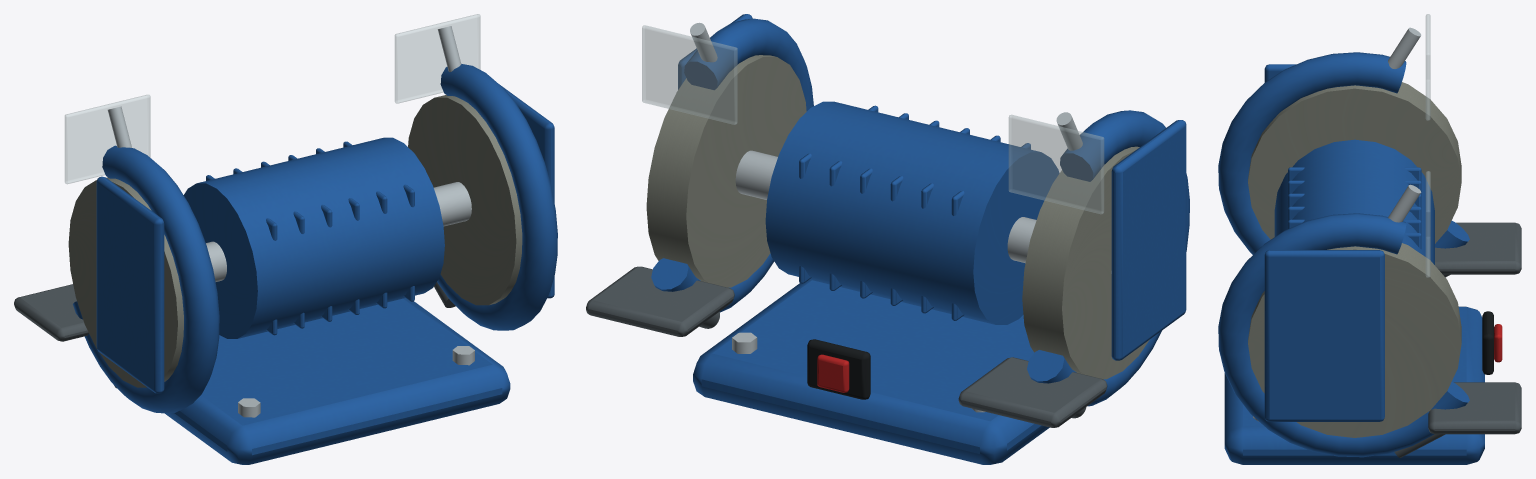
File: BenchGrinder.fbx
3 renders of one model, left to right at view 1: azimuth 30°, elevation 25°; view 2: azimuth 150°, elevation 25°; view 3: azimuth 270°, elevation 25°, orthographic. The views are drawn at different scales.
Visible parts, largest first — view 1: BenchGrinder__Body, BenchGrinder__Glass_Shield1, BenchGrinder__Glass_Shield-1; view 2: BenchGrinder__Body, BenchGrinder__Glass_Shield-1, BenchGrinder__Glass_Shield1; view 3: BenchGrinder__Body, BenchGrinder__Glass_Shield1, BenchGrinder__Glass_Shield-1.
Part boxes in pixels (x1,y1,x2,y2): BenchGrinder__Body: [14, 26, 557, 464]; BenchGrinder__Glass_Shield1: [394, 14, 480, 103]; BenchGrinder__Glass_Shield-1: [64, 94, 150, 184]; BenchGrinder__Body: [586, 14, 1189, 464]; BenchGrinder__Glass_Shield-1: [1008, 114, 1104, 214]; BenchGrinder__Glass_Shield1: [642, 25, 737, 124]; BenchGrinder__Body: [1218, 27, 1521, 464]; BenchGrinder__Glass_Shield1: [1425, 171, 1430, 277]; BenchGrinder__Glass_Shield-1: [1425, 14, 1430, 120].
Size of the model in its own units: 42 by 28.74 by 26.54.
2 materials, 1 textured.
